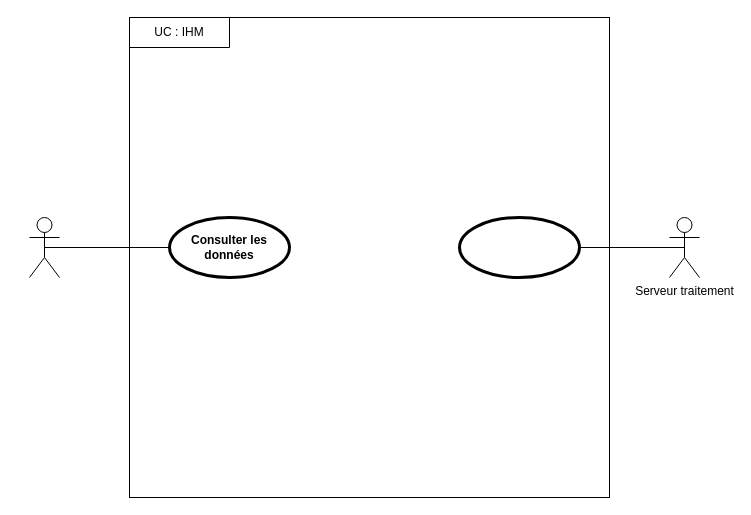
Image size: 751x515. Some labels were removed from this diagram. The shapes that lost their labels are listed below. From the top down, each one's box as (x1, y1, x2, y2) in pixels, then its label:
(28, 216, 60, 278): Opérateur
(458, 216, 580, 278): Envoyer les données
